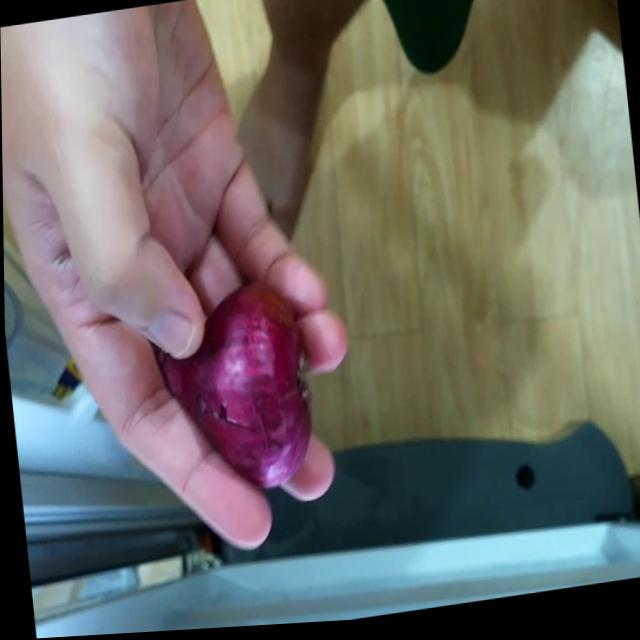onion: (160, 283, 323, 508)
